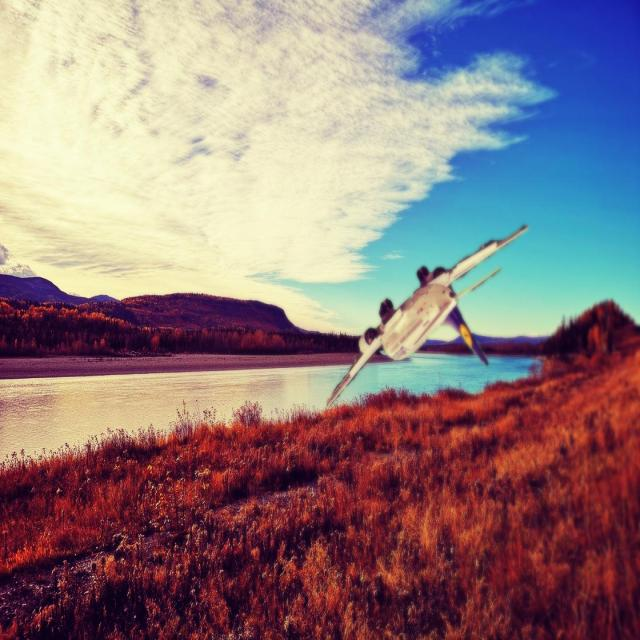airplane: (325, 223, 528, 409)
